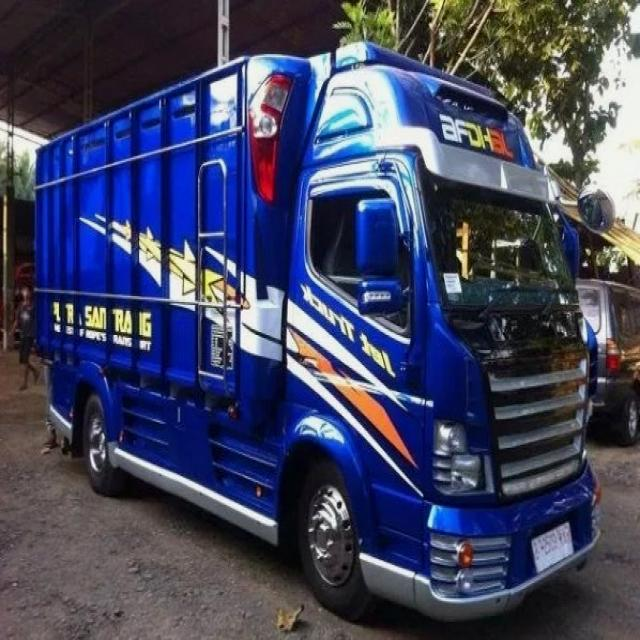truck: (37, 40, 602, 614)
